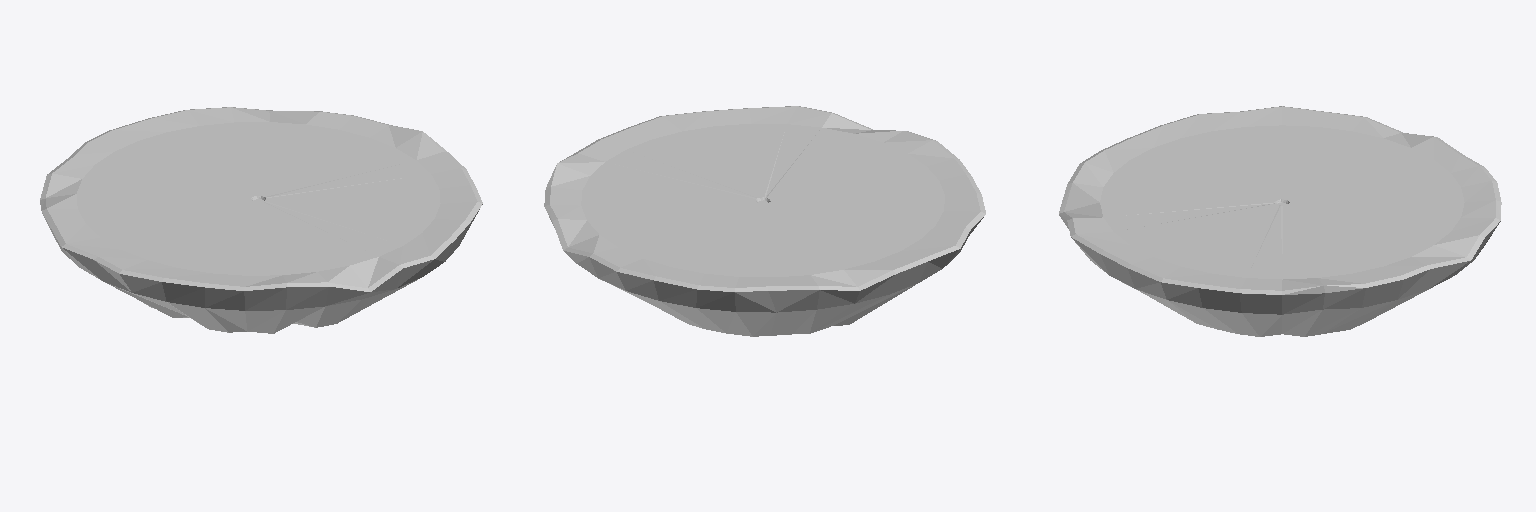
File: island.obj
The picture shows the model from 3 angles: view 1: azimuth 30°, elevation 25°; view 2: azimuth 150°, elevation 25°; view 3: azimuth 270°, elevation 25°; orthographic projection.
Parts seen in each view (by area): view 1: Circle; view 2: Circle; view 3: Circle.
Boxes of the visible parts, box(x1,y1,x2,y2) form: Circle: box(40, 107, 482, 333); Circle: box(544, 106, 985, 336); Circle: box(1059, 106, 1501, 336).
Size of the model in its own units: 101 by 31.03 by 99.56.